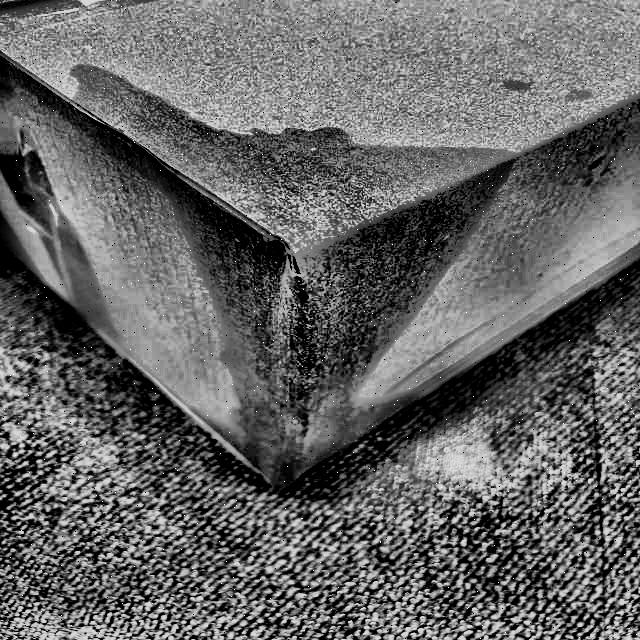box: (0, 0, 639, 496)
wet: (70, 66, 524, 508)
